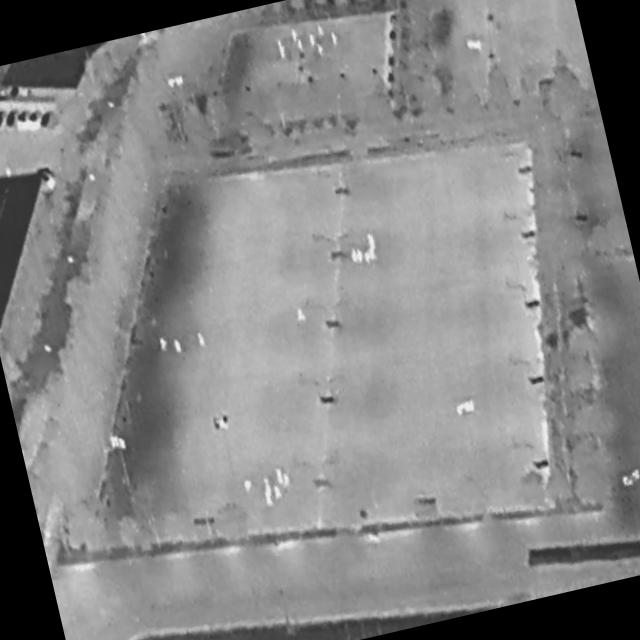person: (196, 330, 208, 349), (295, 307, 307, 323), (273, 485, 284, 501), (368, 247, 379, 262), (243, 479, 254, 494), (283, 474, 293, 490), (264, 490, 273, 507), (276, 469, 285, 486), (159, 337, 169, 352), (368, 234, 377, 250), (350, 248, 359, 264), (356, 248, 365, 264), (364, 252, 373, 268), (308, 33, 317, 48), (316, 23, 325, 38), (331, 31, 340, 46), (280, 46, 289, 61), (174, 339, 183, 354), (263, 477, 272, 492), (317, 43, 326, 57), (291, 29, 299, 42), (297, 40, 305, 53), (277, 39, 283, 51)
